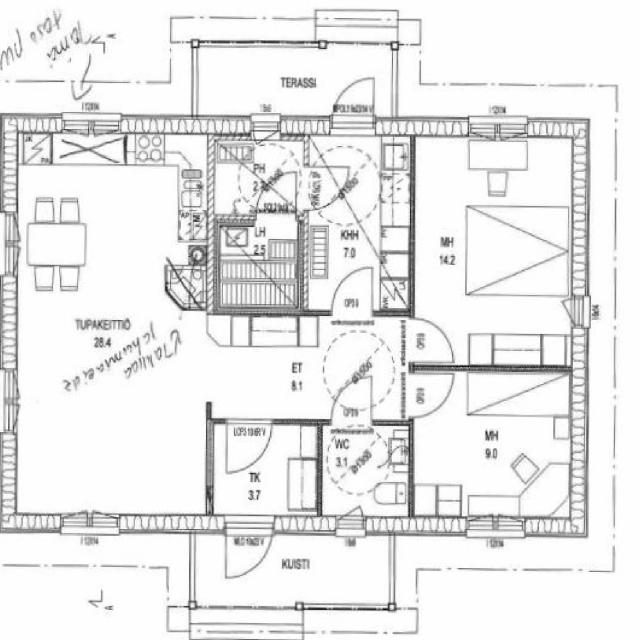door: (226, 516, 273, 585), (332, 71, 373, 135), (227, 419, 272, 473), (331, 374, 372, 424), (409, 318, 454, 362), (408, 374, 454, 417), (304, 167, 350, 210), (256, 172, 296, 221), (332, 267, 372, 315)
